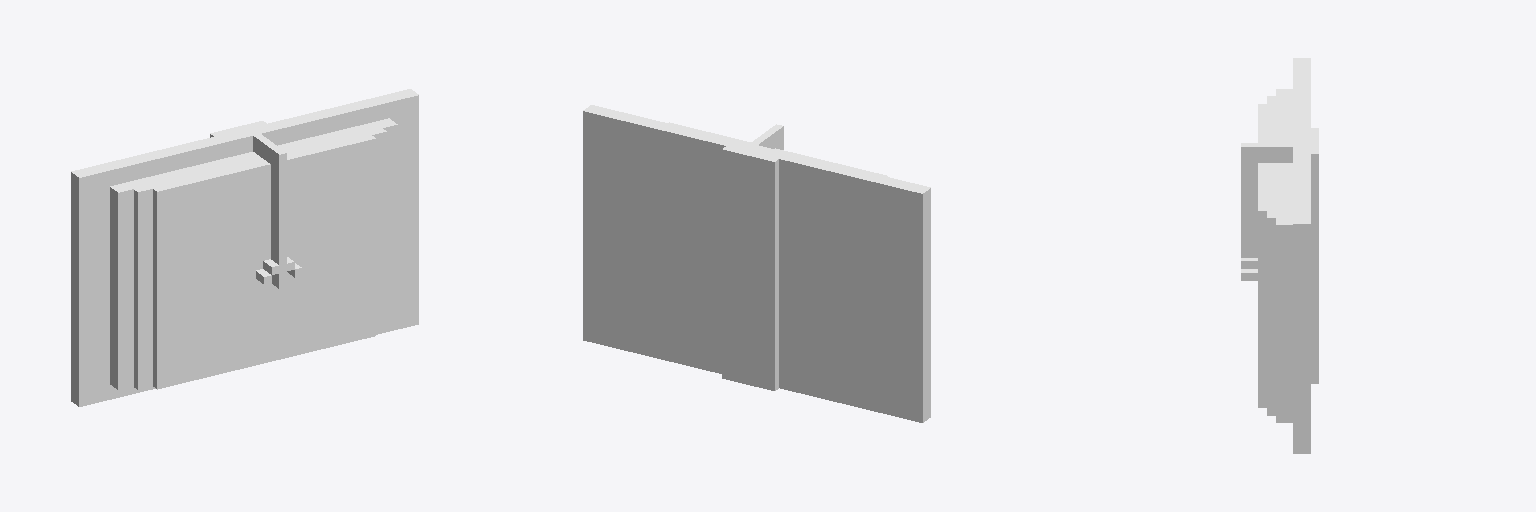
The model's file is libro.obj.
3 renders of one model, left to right at view 1: azimuth 30°, elevation 25°; view 2: azimuth 150°, elevation 25°; view 3: azimuth 270°, elevation 25°, orthographic.
Visible parts, largest first — view 1: object 1; view 2: object 1; view 3: object 1.
Boxes of the visible parts, x1,y1,x2,y2 form: object 1: [71, 89, 418, 406]; object 1: [583, 105, 930, 422]; object 1: [1241, 58, 1318, 453].
Size of the model in its own units: 4.5 by 2.9 by 0.9.